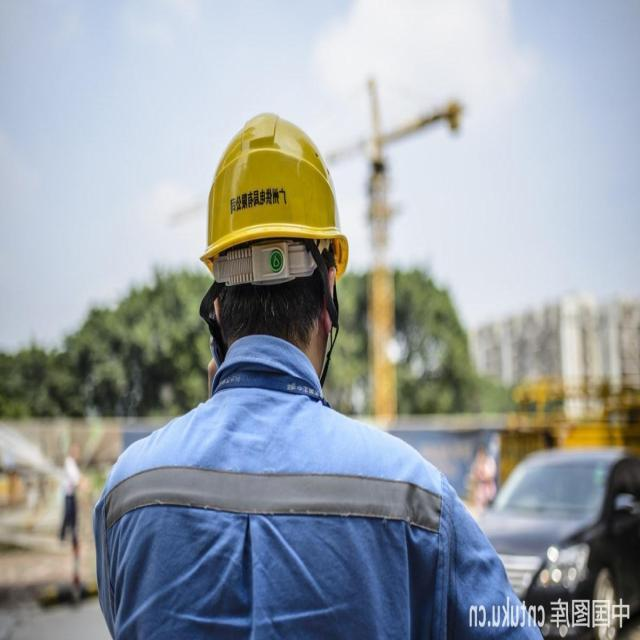helmet: (195, 104, 372, 270)
